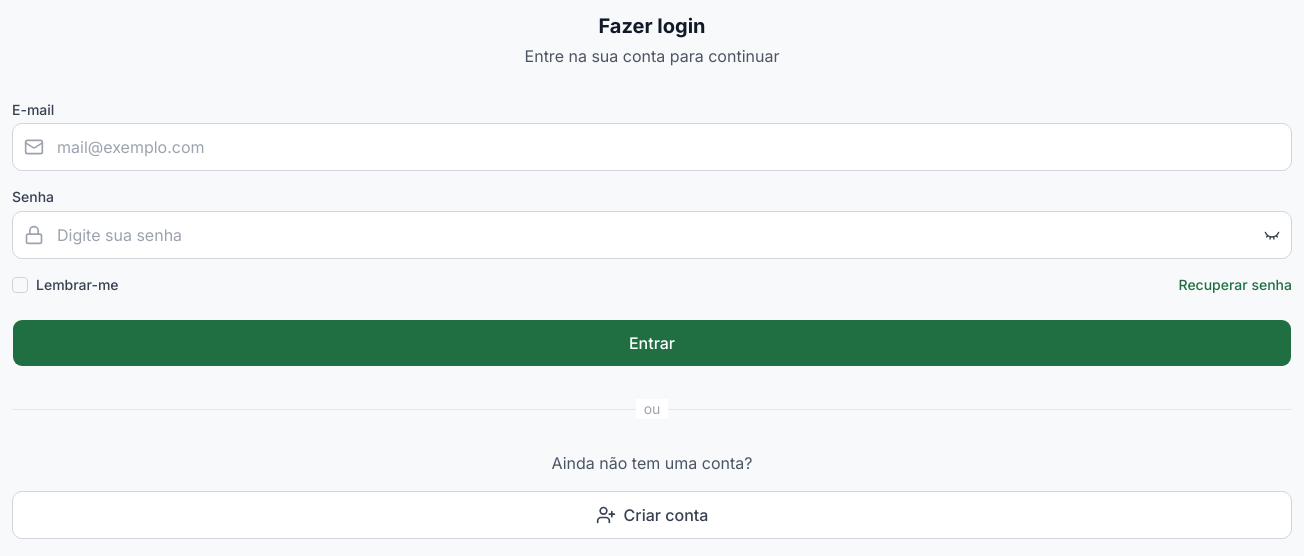
Test case: SignIn › stays on the page when the credentials are wrong
Type "conta@teste.com" into the field labelled "E-mail" at (652, 147), box [12, 123, 1292, 171]
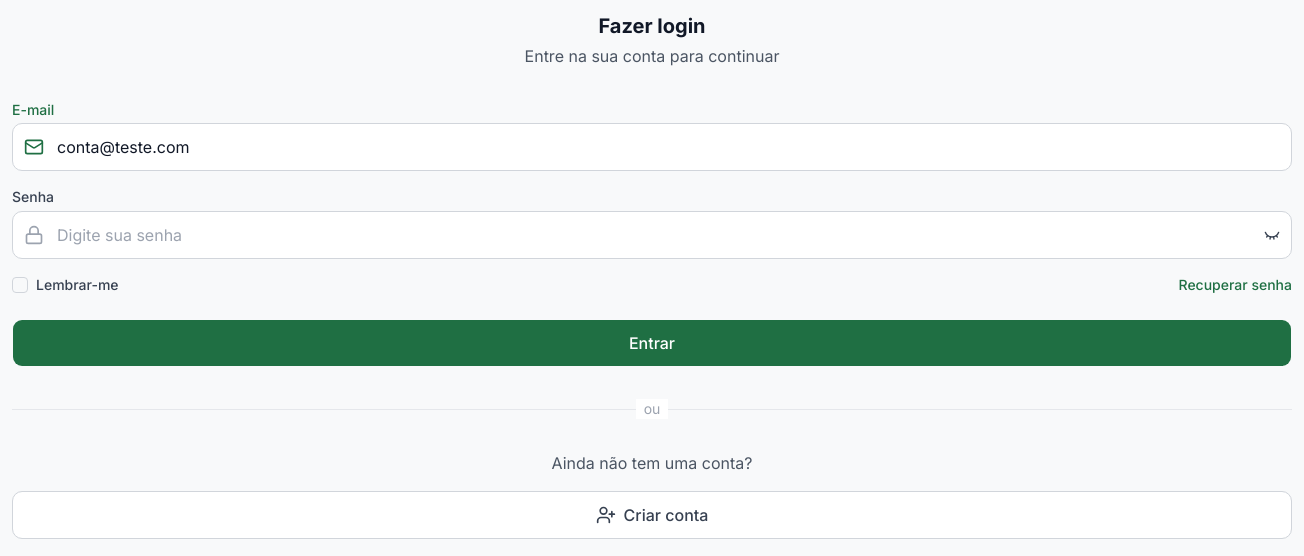
Type "wrong-password" into the password field labelled "Senha" at (652, 234), box [12, 210, 1292, 258]
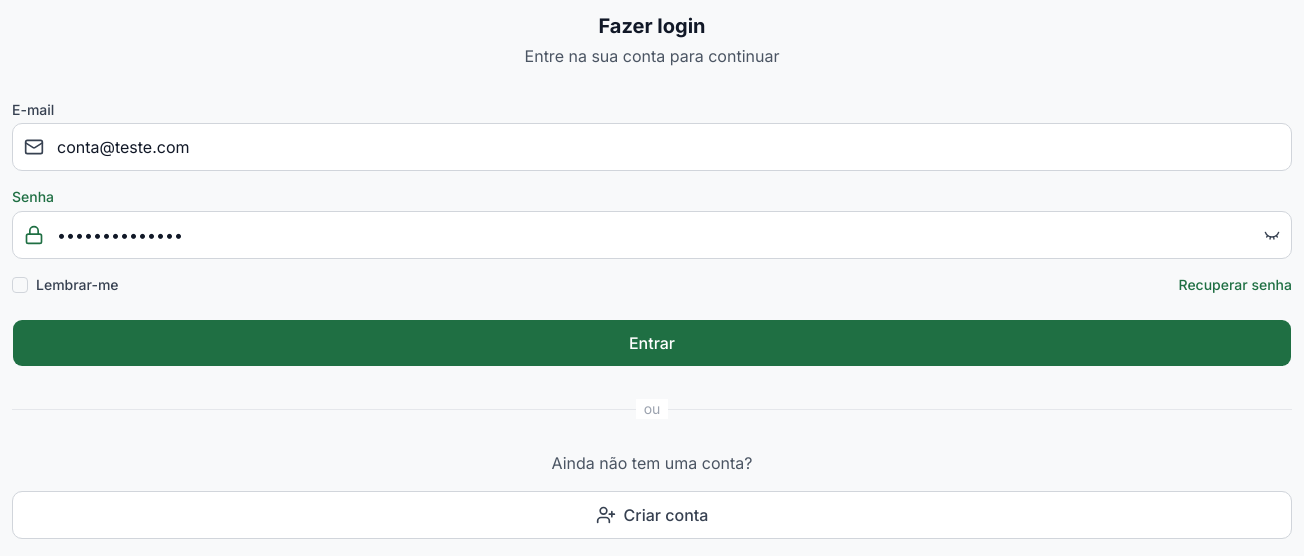
Click the button "Entrar" at (652, 342), box [12, 318, 1292, 366]
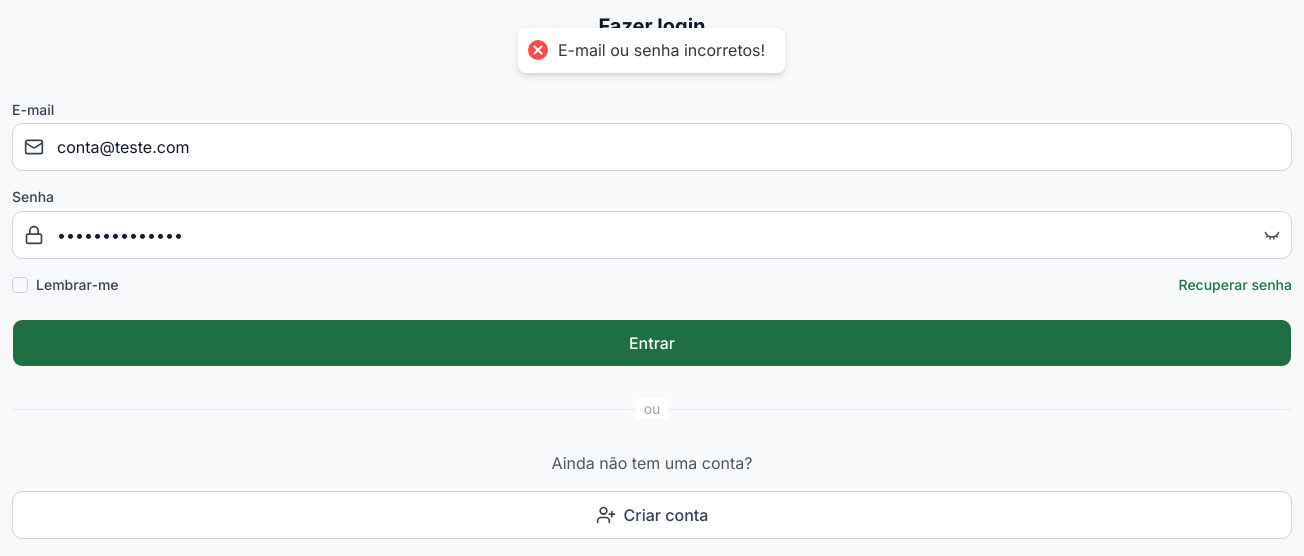
Result: the text "E-mail ou senha incorretos!" is shown at [558, 40, 766, 61]
